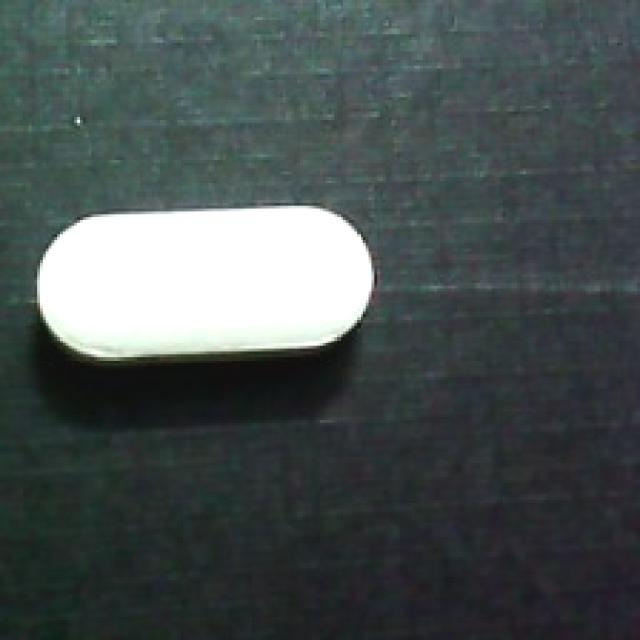no-defect: (34, 203, 377, 374)
